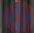No Stopping: (2, 0, 33, 31)
